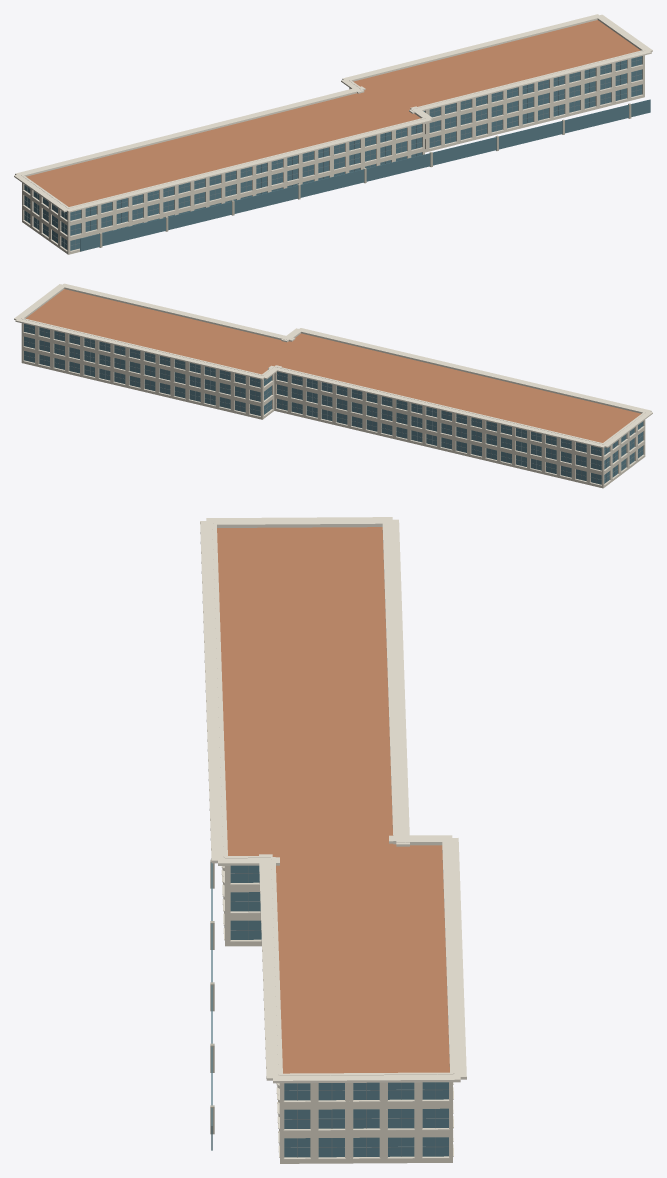
Rendered from xyiyuan.glb.
The picture shows the model from 3 angles, top to bottom: view 1: azimuth 30°, elevation 25°; view 2: azimuth 150°, elevation 25°; view 3: azimuth 270°, elevation 25°; orthographic projection. The views are drawn at different scales.
Visible parts, largest first — view 1: roof, glass, wall, trim, metal, stone; view 2: roof, wall, glass, trim, metal; view 3: roof, trim, glass, wall, metal.
Part boxes in pixels (left/top/right/bottom): roof: left=26, top=20, right=640, bottom=206; glass: left=24, top=56, right=650, bottom=251; wall: left=22, top=55, right=644, bottom=254; trim: left=14, top=14, right=652, bottom=252; metal: left=25, top=57, right=641, bottom=249; stone: left=99, top=103, right=631, bottom=247; roof: left=26, top=289, right=641, bottom=442; wall: left=21, top=323, right=645, bottom=488; glass: left=24, top=324, right=643, bottom=484; trim: left=14, top=283, right=652, bottom=485; metal: left=24, top=325, right=643, bottom=483; roof: left=217, top=527, right=449, bottom=1073; trim: left=200, top=517, right=466, bottom=1159; glass: left=211, top=862, right=448, bottom=1157; wall: left=222, top=865, right=452, bottom=1163; metal: left=230, top=866, right=448, bottom=1157.
Size of the model in its own units: 147 by 10.94 by 29.4.
